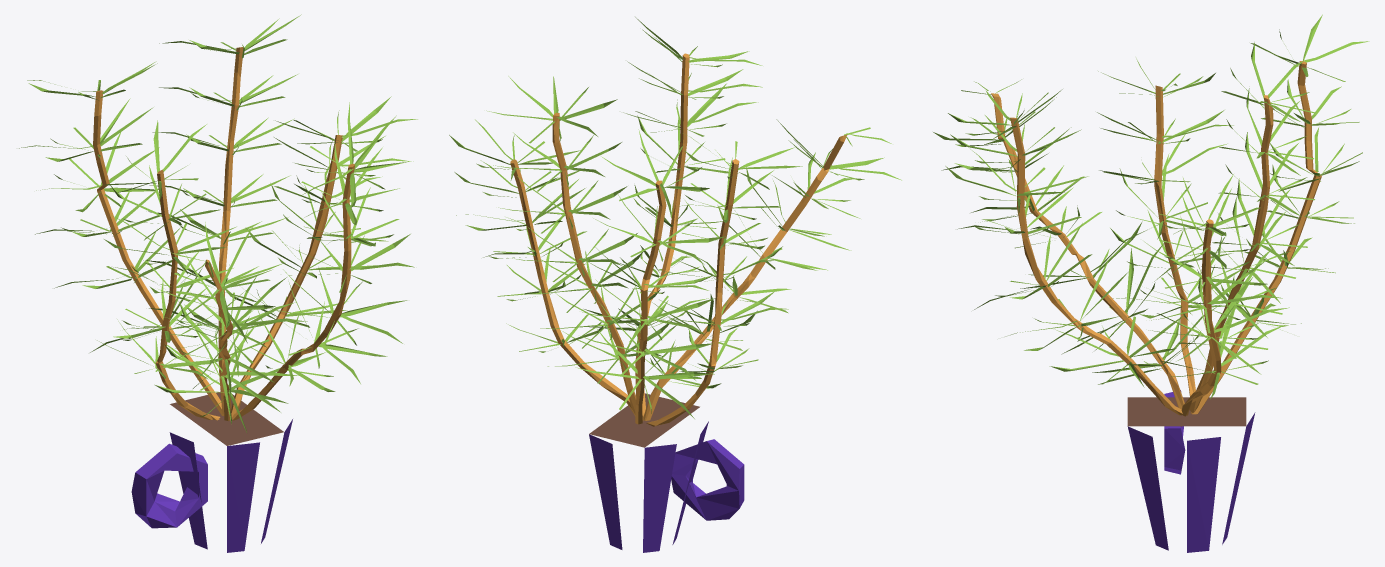
File: rosemary-harvest.glb
The picture shows the model from 3 angles, left to right: view 1: azimuth 30°, elevation 25°; view 2: azimuth 150°, elevation 25°; view 3: azimuth 270°, elevation 25°; orthographic projection. The views are drawn at different scales.
Parts seen in each view (by area): view 1: group920658786; view 2: group920658786; view 3: group920658786.
Part boxes in pixels (x1,y1,x2,y2): group920658786: [19, 14, 417, 552]; group920658786: [449, 17, 901, 552]; group920658786: [933, 14, 1369, 552].
Size of the model in its own units: 0.758 by 1 by 0.8083.
